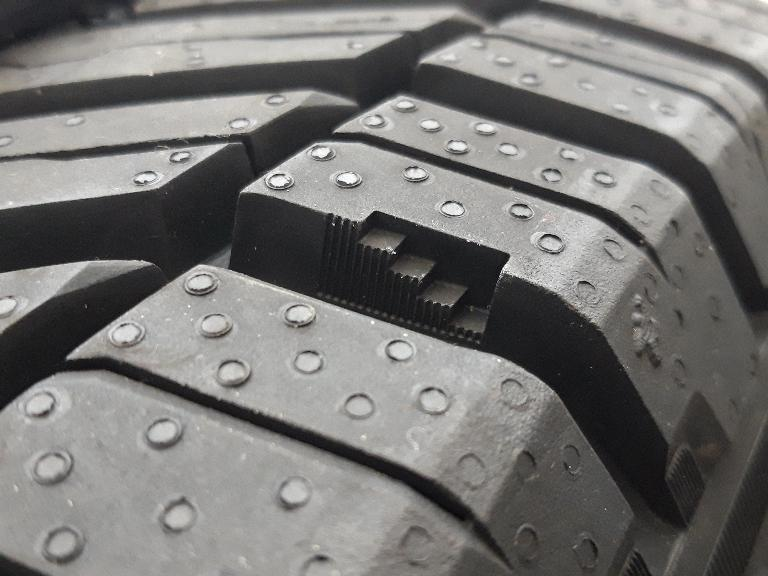temoin:100: (309, 200, 519, 356)
